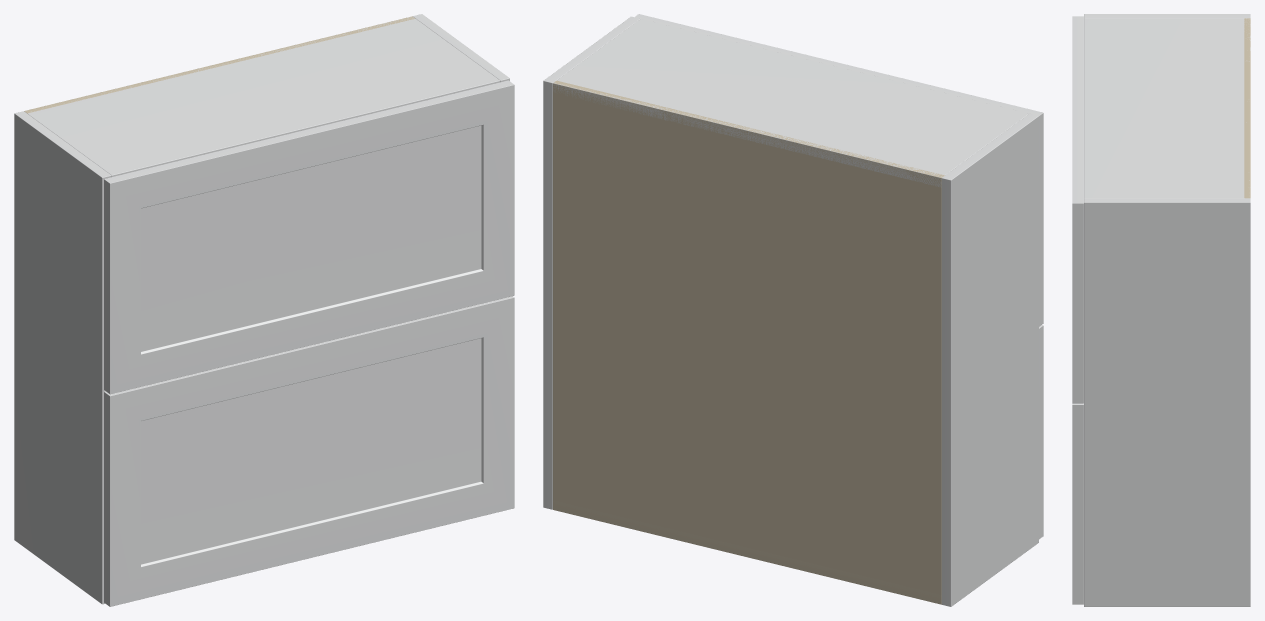
File: PLY-WSS-WBF3030.glb
3 views of the same model, side by side, from view 1: azimuth 30°, elevation 25°; view 2: azimuth 150°, elevation 25°; view 3: azimuth 270°, elevation 25° (orthographic). The views are drawn at different scales.
Visible parts, largest first — view 1: Shaker door.001, Shaker door, Carcass left, Carcass top, Carcass back, Carcass right; view 2: Carcass back, Carcass left, Carcass top, Carcass right, Carcass bottom, Shaker door.001, Shaker door; view 3: Carcass right, Carcass top, Shaker door.001, Shaker door, Carcass back, Carcass left.
Boxes of the visible parts, x1=… form: Shaker door.001: x1=104, y1=80, x2=514, y2=394; Shaker door: x1=104, y1=296, x2=514, y2=606; Carcass left: x1=14, y1=111, x2=111, y2=604; Carcass top: x1=27, y1=17, x2=500, y2=176; Carcass back: x1=24, y1=16, x2=415, y2=113; Carcass right: x1=413, y1=14, x2=509, y2=82; Carcass back: x1=553, y1=80, x2=944, y2=604; Carcass left: x1=941, y1=113, x2=1038, y2=606; Carcass top: x1=553, y1=19, x2=1028, y2=187; Carcass right: x1=543, y1=16, x2=640, y2=509; Carcass bottom: x1=553, y1=500, x2=941, y2=604; Shaker door.001: x1=635, y1=14, x2=1043, y2=326; Shaker door: x1=1039, y1=325, x2=1043, y2=539; Carcass right: x1=1084, y1=198, x2=1250, y2=606; Carcass top: x1=1084, y1=18, x2=1250, y2=198; Shaker door.001: x1=1072, y1=16, x2=1083, y2=403; Shaker door: x1=1072, y1=403, x2=1083, y2=604; Carcass back: x1=1244, y1=18, x2=1250, y2=198; Carcass left: x1=1084, y1=14, x2=1250, y2=18.
Bounding box in the file's own units: 0.762 × 0.762 × 0.3048.
